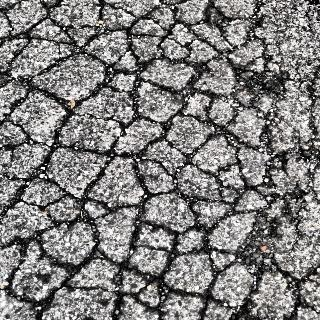alligator-crack: (1, 0, 320, 320)
